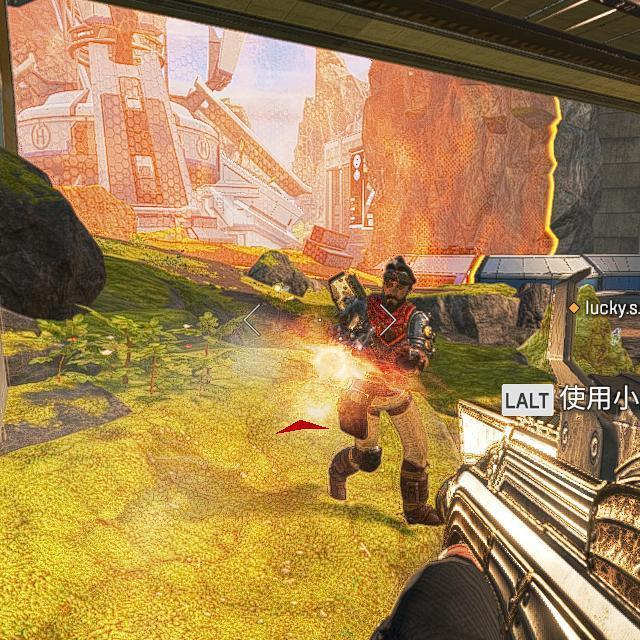avatar: (326, 255, 443, 527)
